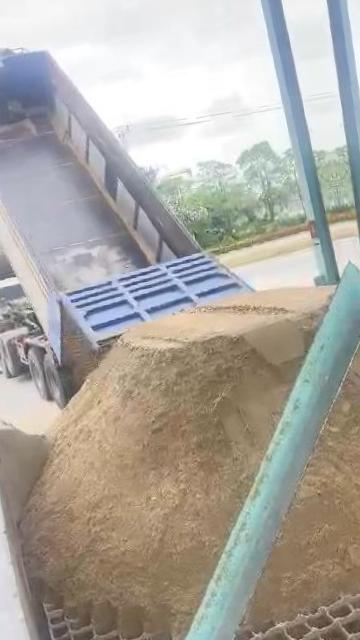sand: (21, 289, 330, 632), (249, 344, 360, 622), (0, 418, 48, 524)
